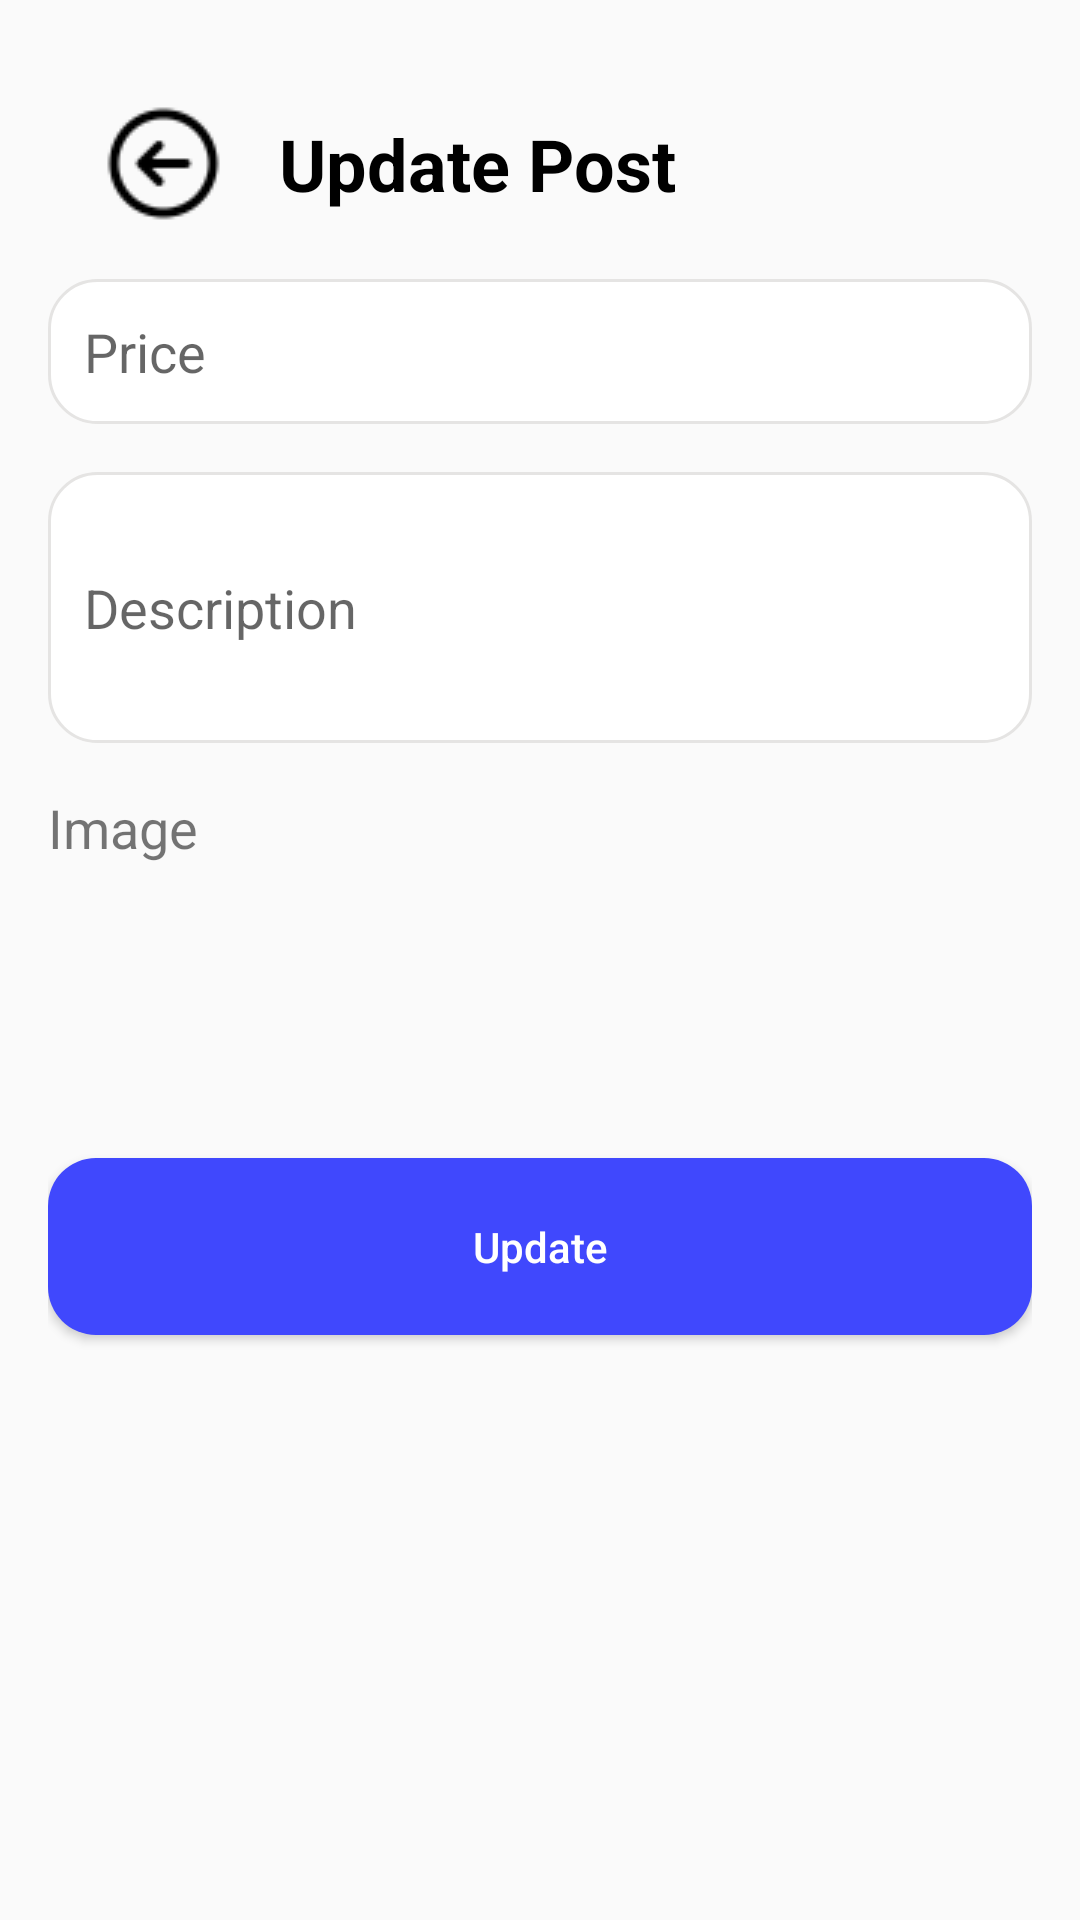

Icon click points for this 1080w x 1920h phone screenshot, format point (x, y):
back arrow: point (163, 163)
